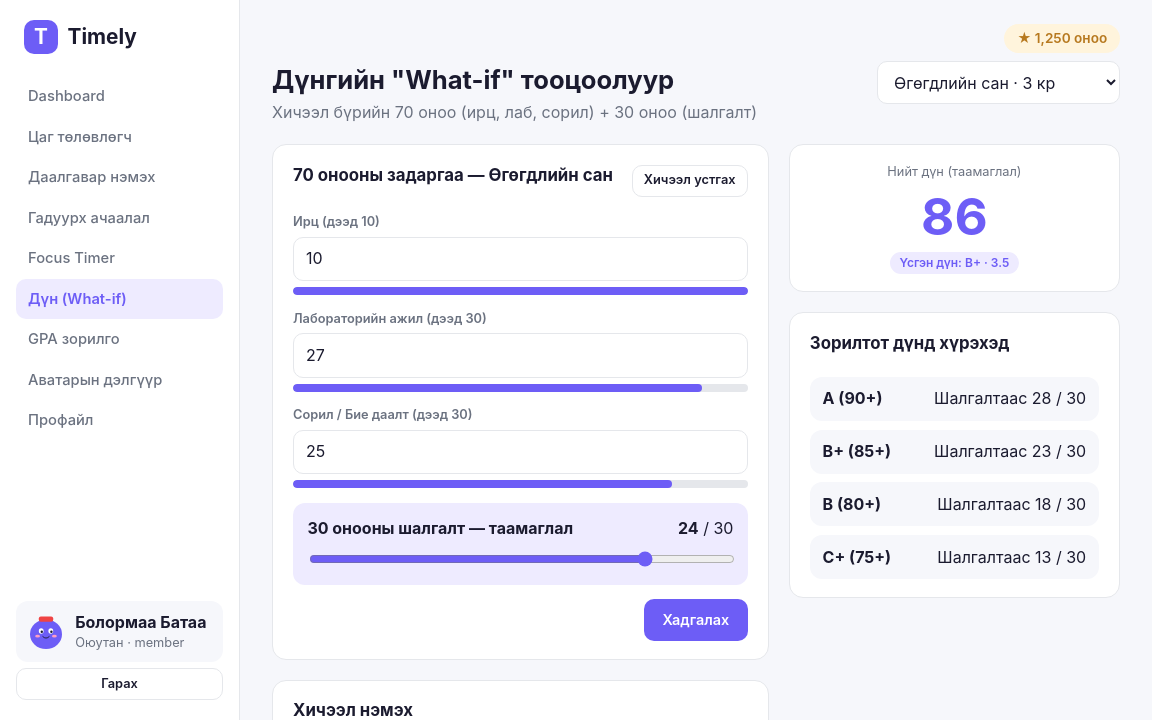
Test: grades & GPA › оноо дээд хязгаараас хэтэрвэл алдаа, хадгалахгүй
The image size is (1152, 720).
Replace the text in the number field with test id "field-quiz" with "31": [520, 452] box top-left (293, 430), bottom-right (748, 474)
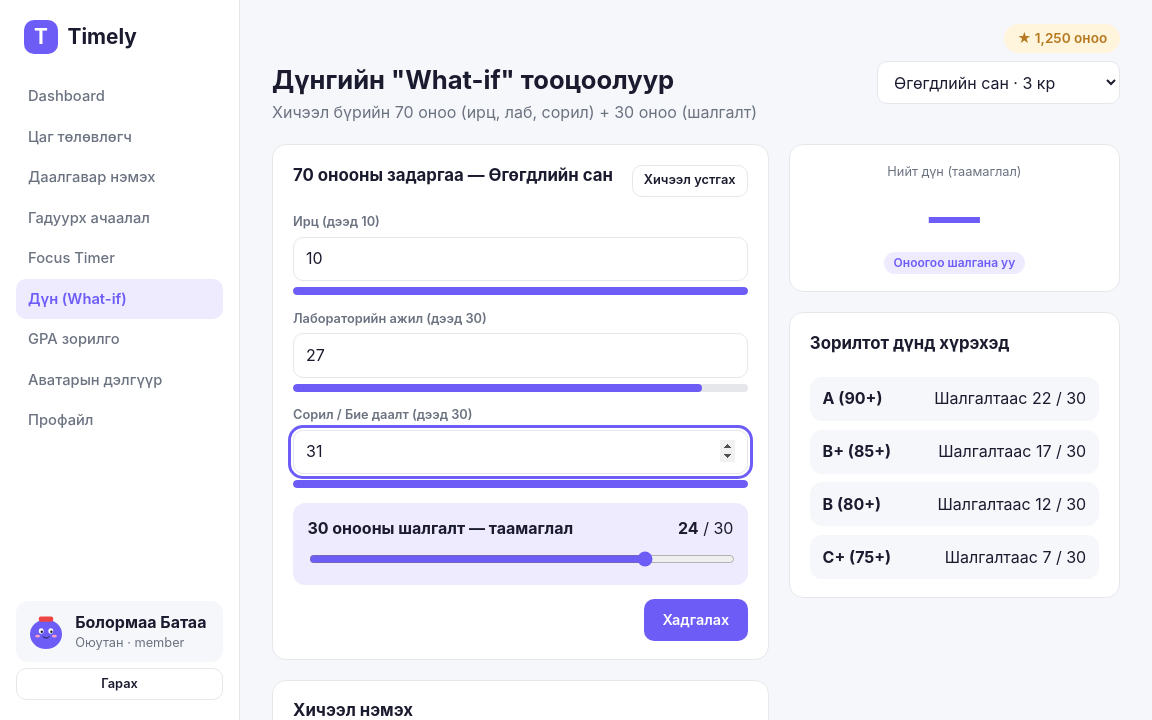
Click the button with test id "save-grade": [696, 620] box top-left (644, 599), bottom-right (748, 641)
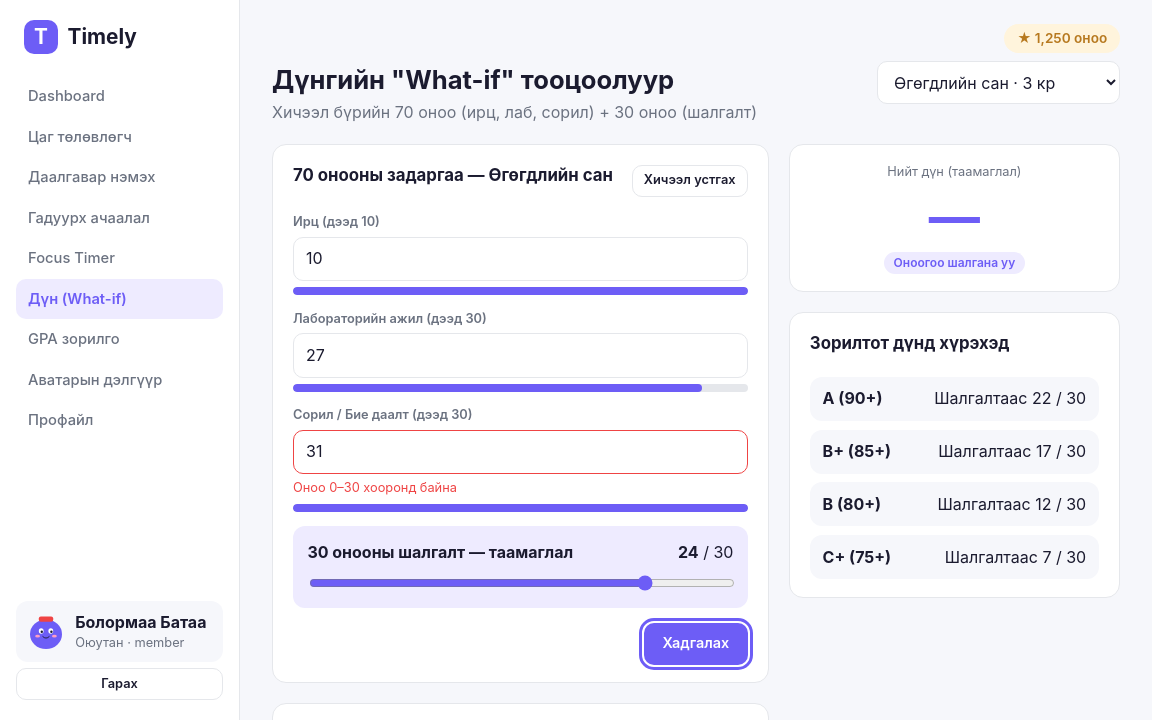
Result: the message with test id "error-quiz" shows "0–30" at top-left (293, 480), bottom-right (457, 495)
